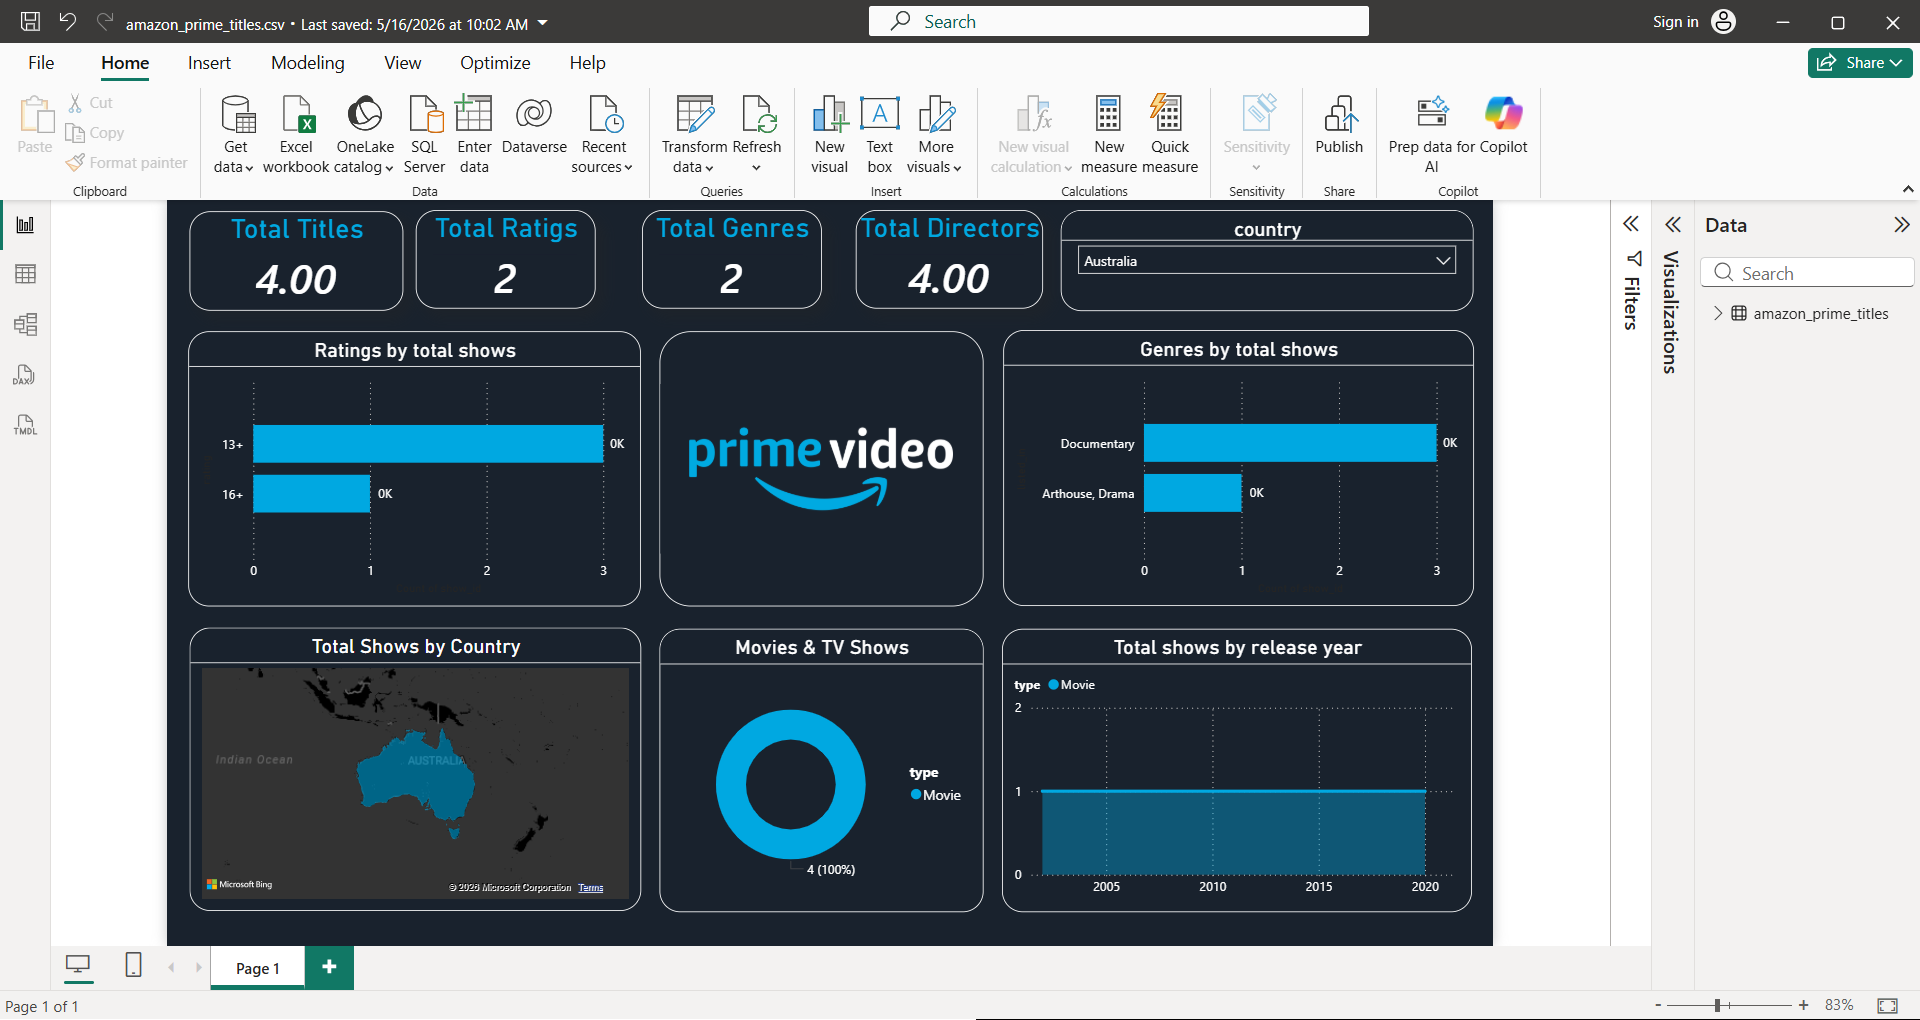

Layout of this report page (visuals, bound fields, positions):
{"tool":"powerbi","page":{"name":"Page 1","canvas":[1280,720],"ordinal":0},"visuals":[{"type":"filledMap","title":"Total Shows by Country","fields":{"Category":["amazon_prime_titles.country"]},"box":[21.2,412.5,436.2,273.8],"z":0},{"type":"donutChart","title":"Movies & TV Shows","fields":{"Category":["amazon_prime_titles.type"],"Y":["Count(amazon_prime_titles.show_id)"]},"box":[475.3,413.8,312.5,273.9],"z":1000},{"type":"areaChart","title":"Total shows by release year","fields":{"Category":["amazon_prime_titles.release_year"],"Y":["Count(amazon_prime_titles.show_id)"],"Series":["amazon_prime_titles.type"]},"box":[806.2,413.8,453.8,273.8],"z":2000},{"type":"image","box":[475.3,126.7,312.5,265.4],"z":3000},{"type":"barChart","title":"Ratings by total shows","fields":{"Category":["amazon_prime_titles.rating"],"Y":["Count(amazon_prime_titles.show_id)"]},"box":[20.5,126.7,436.7,265.4],"z":4000},{"type":"barChart","title":"Genres by total shows","fields":{"Y":["CountNonNull(amazon_prime_titles.show_id)"],"Category":["amazon_prime_titles.listed_in"]},"box":[806.9,124.9,454.2,266.2],"z":5000},{"type":"cardVisual","title":"Total Titles","fields":{"Data":["amazon_prime_titles.Total Titles"]},"box":[21.6,10.8,206.8,95.9],"z":6000},{"type":"cardVisual","title":"Total Ratigs","fields":{"Data":["Count(amazon_prime_titles.rating)"]},"box":[240.1,9.7,173.7,95.3],"z":7000},{"type":"cardVisual","title":"Total Genres","fields":{"Data":["amazon_prime_titles.total genres"]},"box":[458.4,9.7,173.7,95.3],"z":8000},{"type":"cardVisual","title":"Total Directors","fields":{"Data":["amazon_prime_titles.total diectors"]},"box":[664.7,9.7,181,95.3],"z":9000},{"type":"slicer","title":"country","fields":{"Values":["amazon_prime_titles.country"]},"box":[862.2,9.5,398.6,97.3],"z":11001}]}

Visuals, with their boxes on the page's 1280x720 design canvas (x1, y1, x2, y2). These are canvas units, not pixel positions in the 1920x1020 screenshot, which may show the page scaled, cropped or inside an application window:
"Total Shows by Country" filledMap: 21:412:457:686
"Movies & TV Shows" donutChart: 475:414:788:688
"Total shows by release year" areaChart: 806:414:1260:688
image: 475:127:788:392
"Ratings by total shows" barChart: 20:127:457:392
"Genres by total shows" barChart: 807:125:1261:391
"Total Titles" cardVisual: 22:11:228:107
"Total Ratigs" cardVisual: 240:10:414:105
"Total Genres" cardVisual: 458:10:632:105
"Total Directors" cardVisual: 665:10:846:105
"country" slicer: 862:10:1261:107
